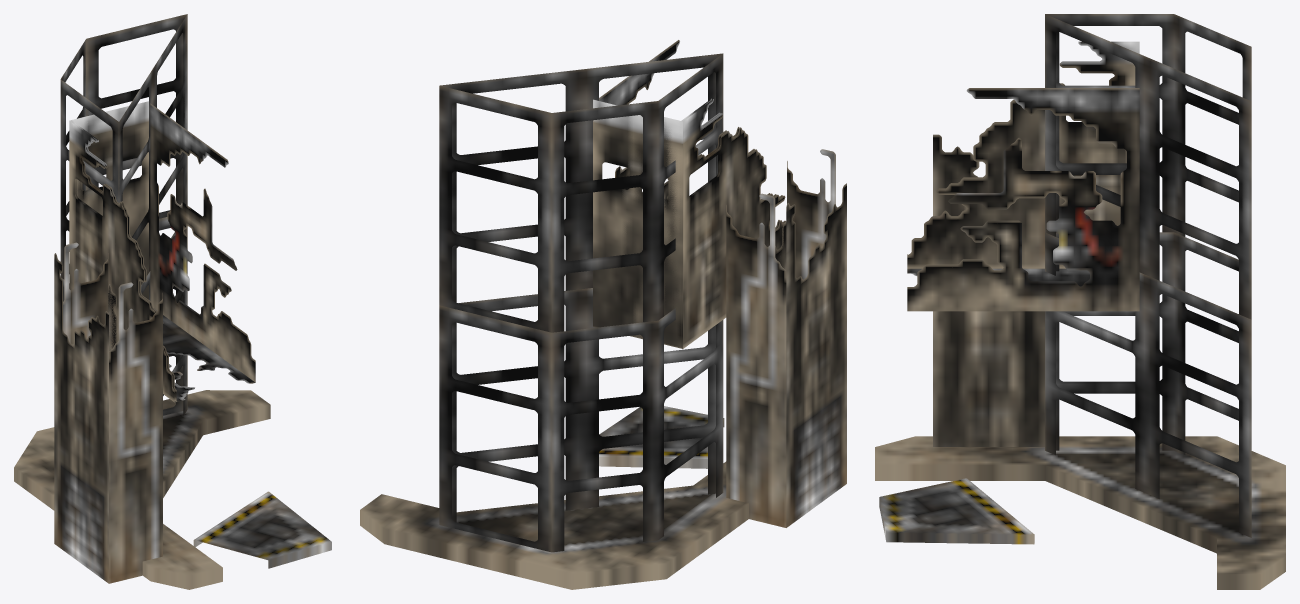
File: gantry_dam.glb
3 views of the same model, side by side, from view 1: azimuth 30°, elevation 25°; view 2: azimuth 150°, elevation 25°; view 3: azimuth 270°, elevation 25° (orthographic). The views are drawn at different scales.
Visible parts, largest first — view 1: GantryDam; view 2: GantryDam; view 3: GantryDam.
Boxes of the visible parts, x1,y1,x2,y2 form: GantryDam: (14,14,331,589); GantryDam: (360,40,846,589); GantryDam: (875,14,1285,589).
Size of the model in its own units: 18.45 by 24.88 by 20.49.
Materials: 1 (1 with a texture image).
